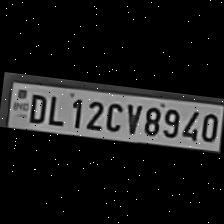0: (197, 108, 219, 142)
1: (63, 92, 85, 128)
2: (81, 95, 105, 130)
4: (178, 105, 201, 140)
8: (140, 101, 162, 136)
9: (159, 104, 182, 138)
C: (101, 97, 124, 132)
D: (23, 88, 47, 122)
L: (43, 90, 66, 126)
V: (120, 98, 142, 134)
